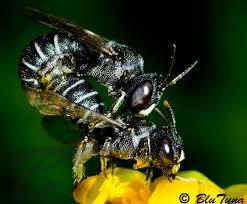Braunsapis: (15, 6, 194, 119), (38, 72, 196, 186)
